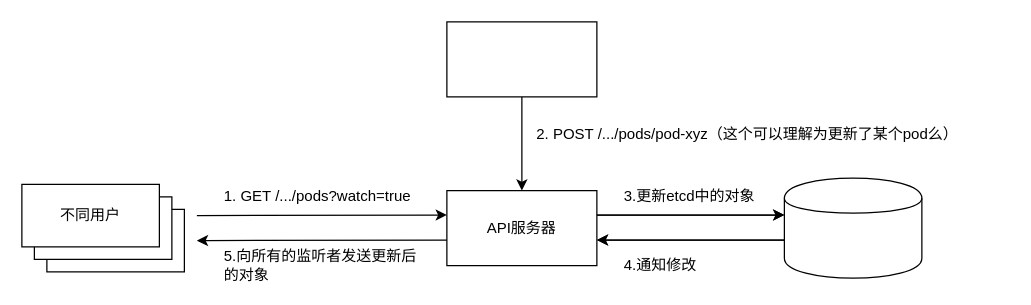
Some shapes in this 1031 by 305 pixel diagram are drawn without their labels. Each missing label, with the box of its shape:
etcd: (783, 177, 922, 278)
kubectl: (446, 21, 597, 97)
